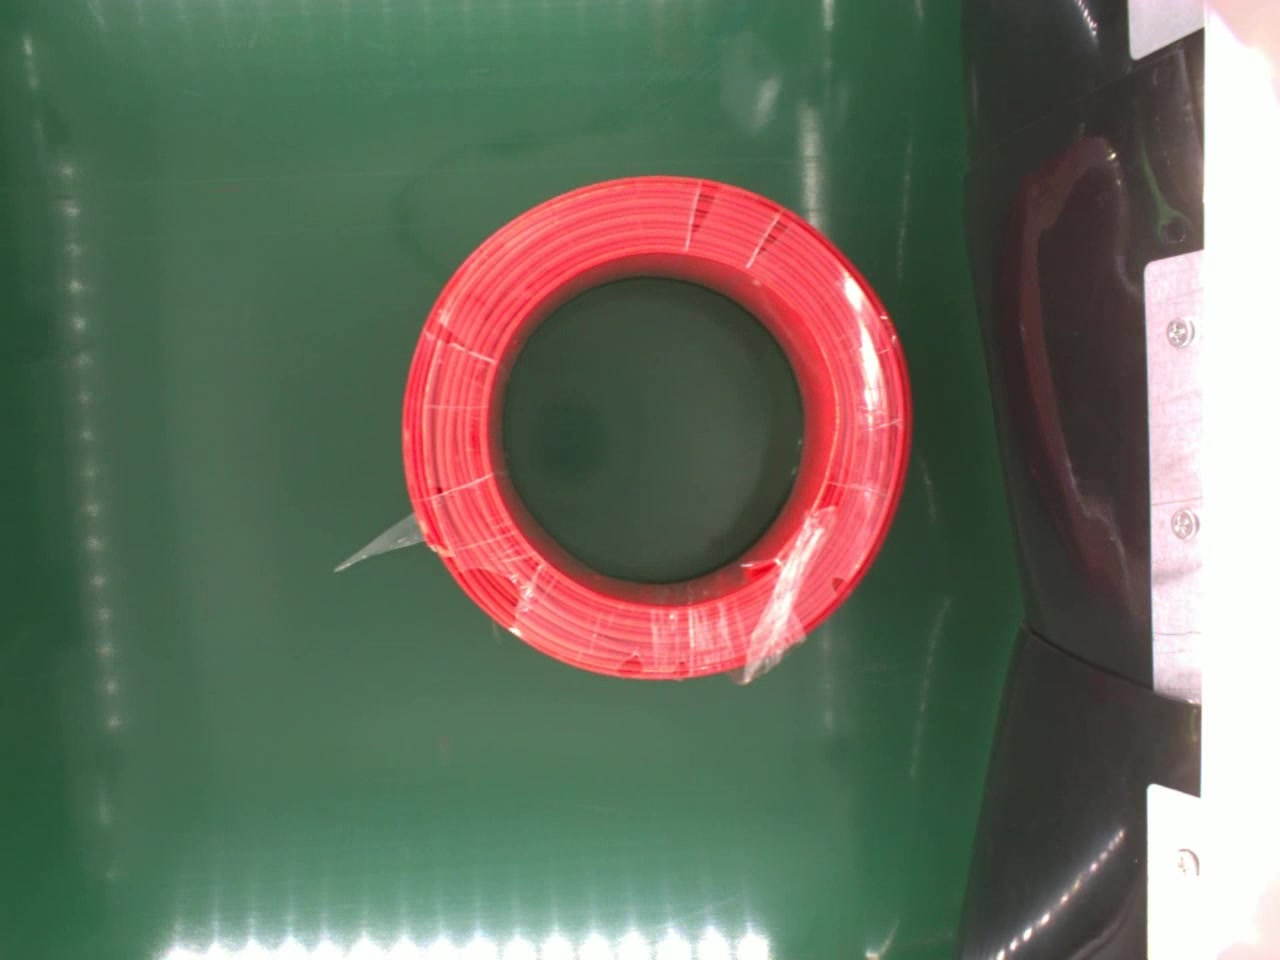red: (396, 173, 913, 685)
